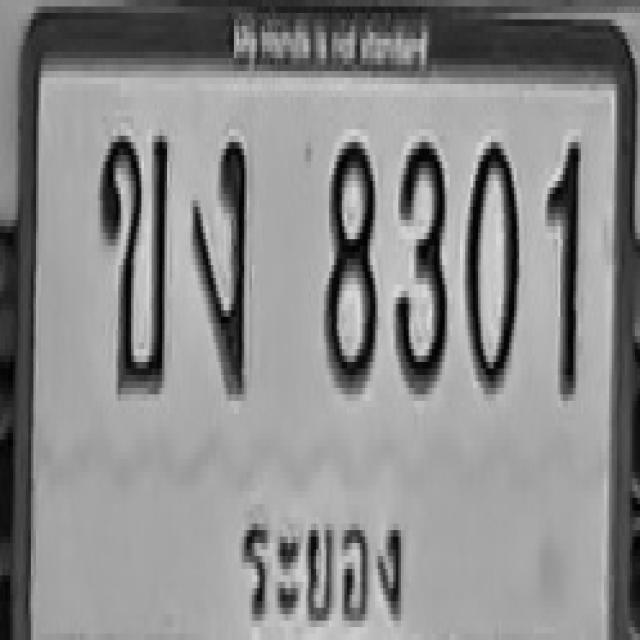0: (465, 136, 519, 388)
1: (546, 136, 580, 394)
11KhorKhai: (98, 126, 167, 391)
16NgorNgu: (190, 136, 247, 394)
3: (394, 136, 446, 388)
8: (324, 136, 375, 388)
Rayong: (240, 496, 409, 640)
